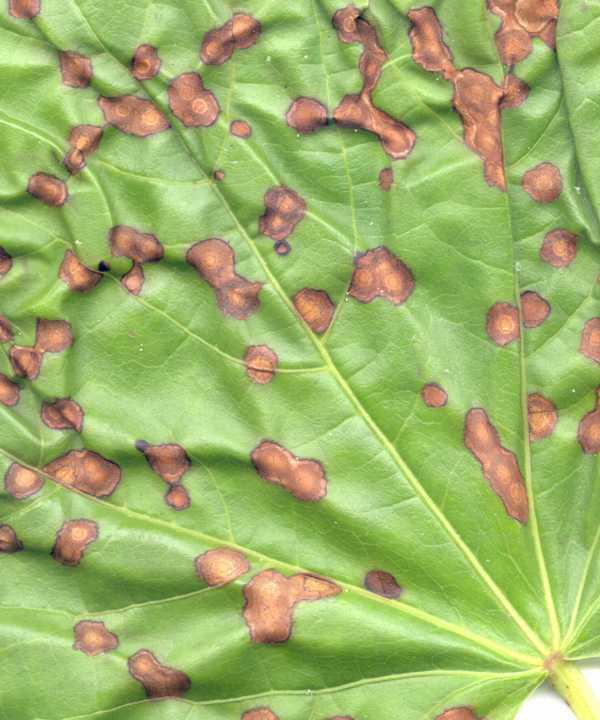grape leaf: (1, 1, 598, 720)
